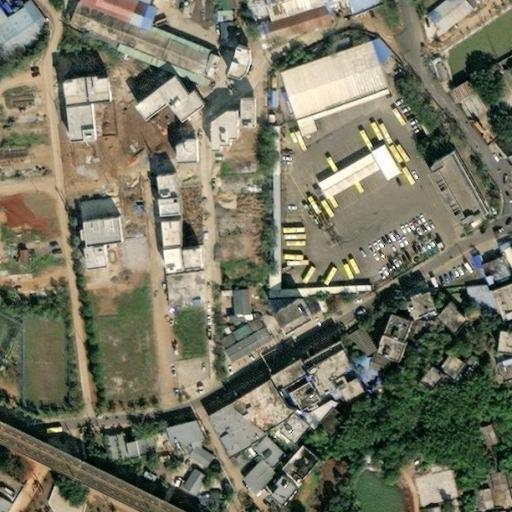building: (63, 6, 212, 85), (268, 42, 385, 121), (120, 75, 201, 160), (425, 151, 492, 233), (227, 382, 292, 436), (198, 407, 263, 461), (247, 4, 325, 46), (70, 105, 109, 183), (310, 153, 373, 198), (303, 342, 357, 393), (180, 191, 207, 272), (212, 325, 264, 365), (405, 475, 455, 512), (277, 445, 317, 485), (370, 312, 402, 360), (157, 222, 185, 274), (81, 218, 125, 250), (209, 111, 242, 153), (275, 302, 313, 337), (67, 79, 111, 109), (156, 175, 183, 221), (230, 459, 265, 494), (272, 363, 310, 393), (365, 145, 395, 183), (225, 47, 253, 86), (259, 477, 292, 510), (473, 256, 505, 289), (160, 422, 200, 448), (395, 120, 425, 154), (82, 257, 112, 290), (488, 282, 512, 323), (292, 401, 328, 428), (65, 52, 107, 75), (289, 383, 320, 413), (238, 100, 262, 135), (405, 294, 435, 322), (432, 308, 462, 336), (286, 112, 319, 137), (275, 418, 303, 447), (171, 468, 199, 496), (449, 92, 477, 120), (334, 379, 361, 406), (247, 440, 274, 467), (432, 354, 459, 381), (439, 79, 467, 105), (456, 285, 486, 307), (488, 359, 512, 386), (174, 143, 200, 166), (222, 289, 242, 318), (143, 8, 165, 34), (122, 0, 143, 27), (125, 244, 147, 268), (0, 483, 15, 512), (203, 7, 230, 23), (300, 285, 348, 294), (208, 22, 230, 41), (496, 233, 512, 259), (134, 5, 151, 29), (471, 424, 490, 445), (348, 333, 366, 355), (361, 355, 383, 373), (496, 333, 512, 357), (321, 381, 342, 399), (481, 472, 499, 492), (260, 289, 300, 298), (462, 255, 477, 276), (495, 470, 511, 489), (16, 245, 31, 264), (132, 441, 149, 455), (260, 271, 272, 290), (492, 489, 504, 507), (123, 444, 134, 461), (501, 264, 512, 281), (133, 471, 148, 483), (348, 285, 362, 293), (506, 166, 512, 174)
